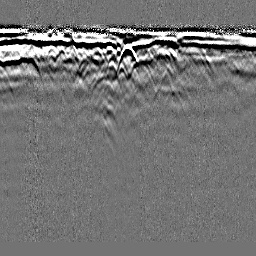cavity: (117, 41, 138, 65)
